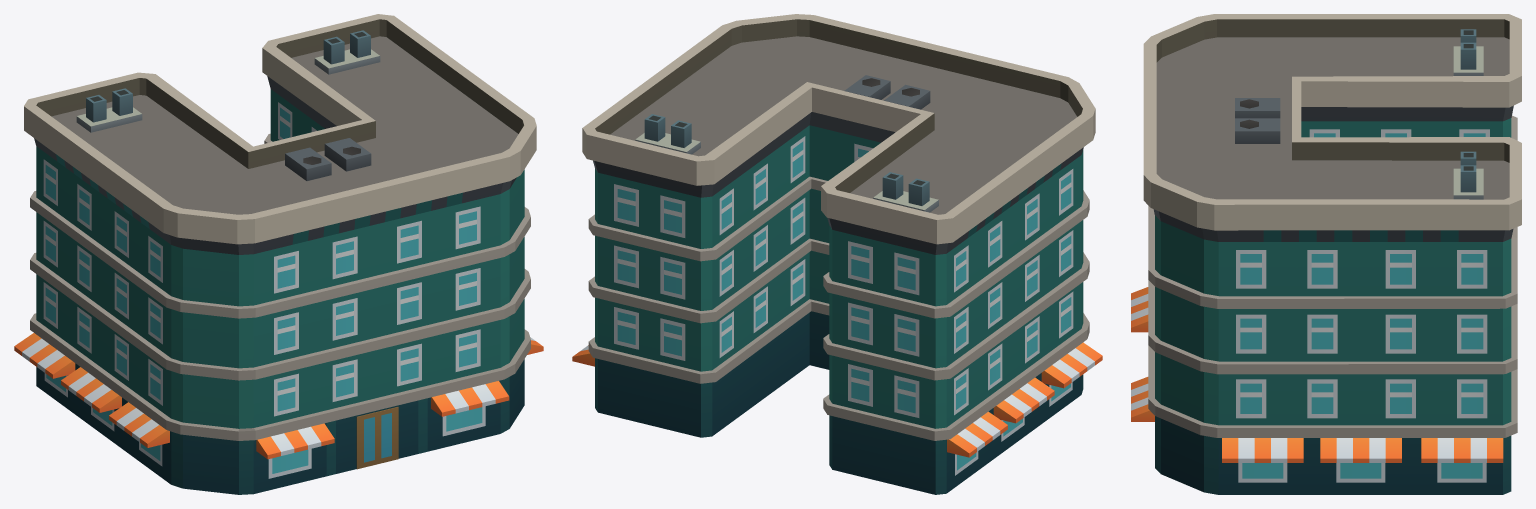
File: Building_cartoon_34.fbx
3 views of the same model, side by side, from view 1: azimuth 30°, elevation 25°; view 2: azimuth 150°, elevation 25°; view 3: azimuth 270°, elevation 25° (orthographic). The views are drawn at different scales.
Parts seen in each view (by area): view 1: Building_cartoon_34; view 2: Building_cartoon_34; view 3: Building_cartoon_34.
Boxes of the visible parts, left/top/right/bottom form: Building_cartoon_34: left=14, top=14, right=543, bottom=494; Building_cartoon_34: left=572, top=14, right=1102, bottom=494; Building_cartoon_34: left=1131, top=14, right=1521, bottom=494.
Size of the model in its own units: 2031 by 1410 by 1643.
